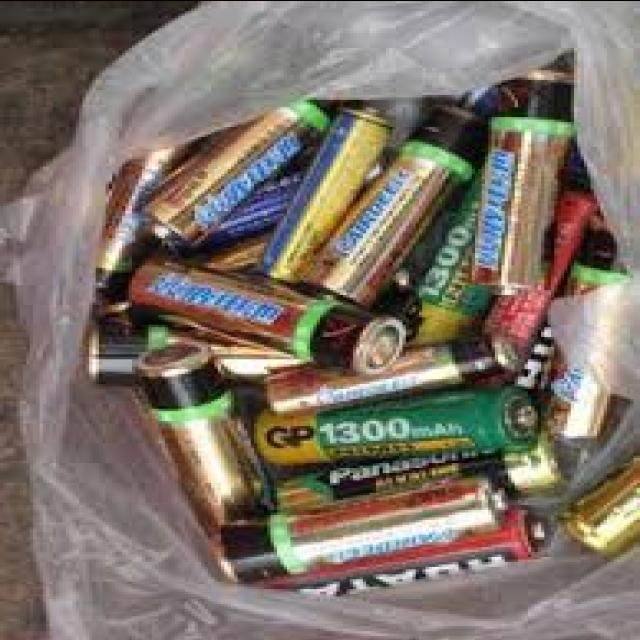b3: (82, 99, 570, 599)
